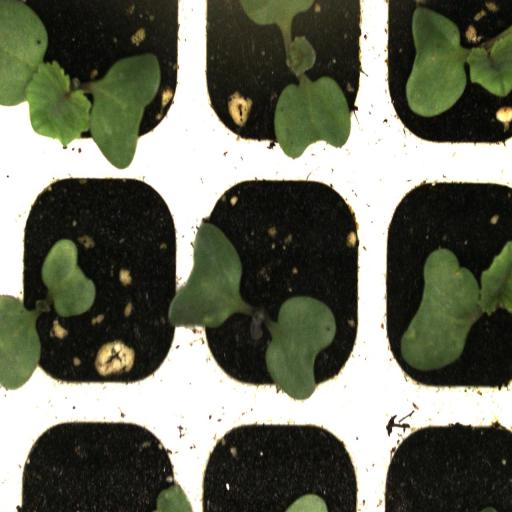seedling: (186, 156, 374, 403), (4, 156, 188, 408), (375, 157, 512, 405), (190, 0, 375, 170), (6, 1, 190, 154), (373, 0, 512, 166)
